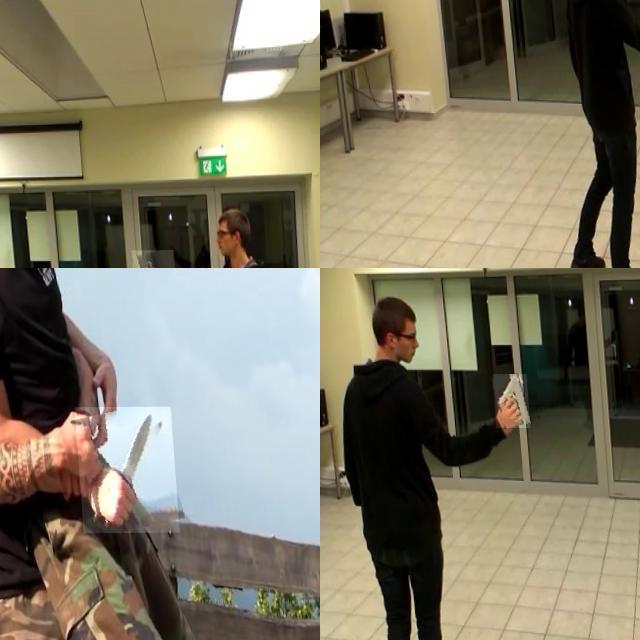-: (70, 408, 174, 534)
gun-knife-thesis - v11 Yolov5 augmented: (488, 375, 524, 429), (126, 250, 172, 268)
